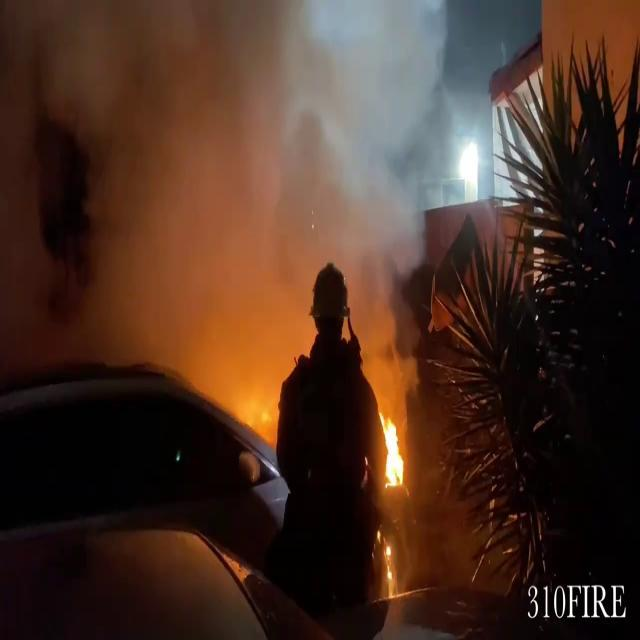Fire: (379, 397, 406, 488)
Smoke: (1, 0, 440, 391)
